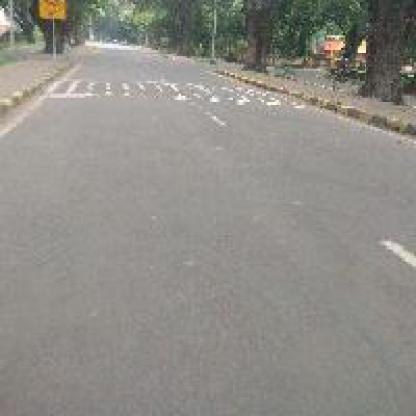Speed Bump: (42, 77, 310, 100)
